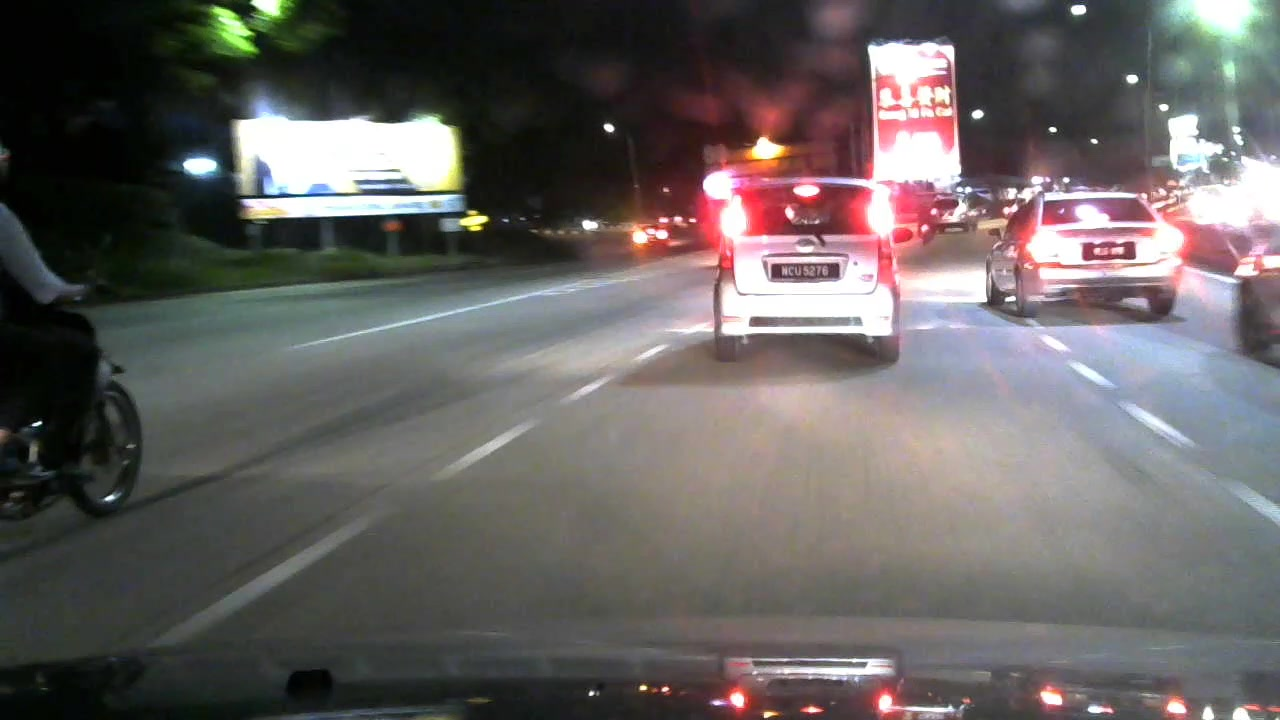Car: (693, 172, 905, 376), (978, 178, 1190, 322), (1223, 234, 1280, 363), (628, 209, 676, 263), (930, 191, 969, 230)
